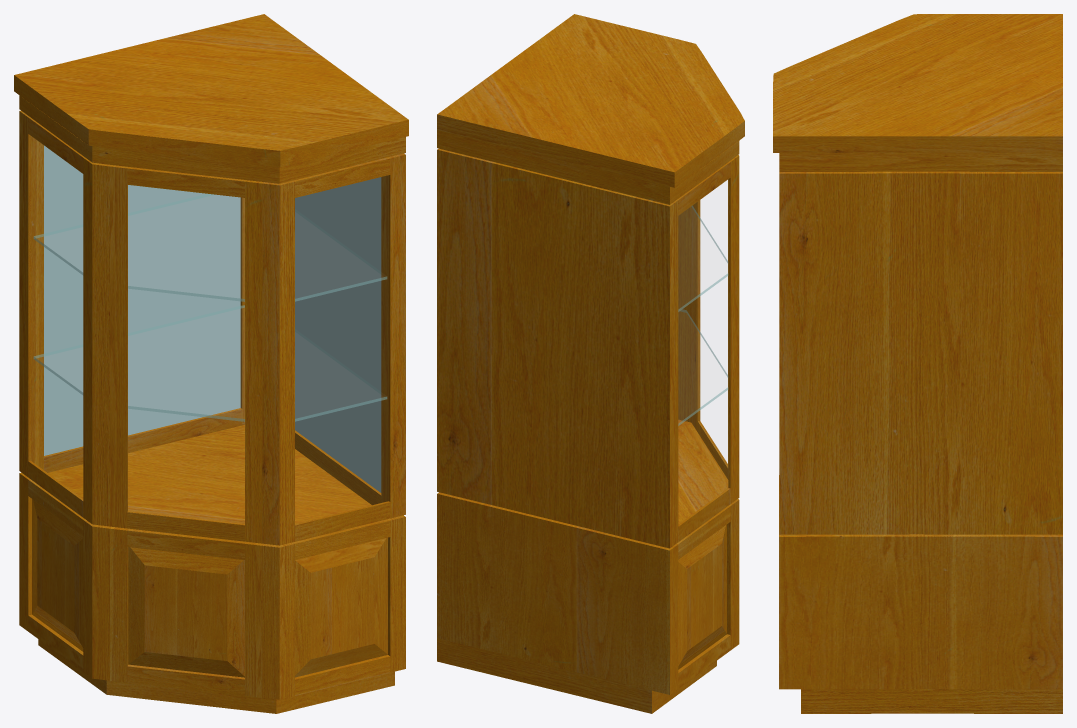
Rendered from Cabinet.fbx.
3 renders of one model, left to right at view 1: azimuth 30°, elevation 25°; view 2: azimuth 150°, elevation 25°; view 3: azimuth 270°, elevation 25°, orthographic. The views are drawn at different scales.
Visible parts, largest first — view 1: Cube; view 2: Cube; view 3: Cube.
Part boxes in pixels (x1,y1,x2,y2): Cube: [14, 14, 408, 713]; Cube: [437, 14, 744, 713]; Cube: [773, 14, 1062, 713].
Size of the model in its own units: 6.23 by 6.23 by 13.7.
4 materials, 1 textured.
